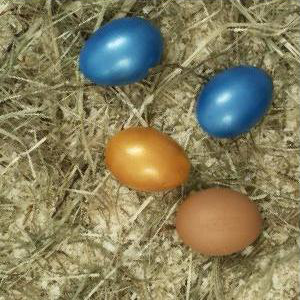egg: (174, 187, 263, 258), (79, 17, 164, 86), (104, 128, 192, 192), (197, 66, 274, 137)
